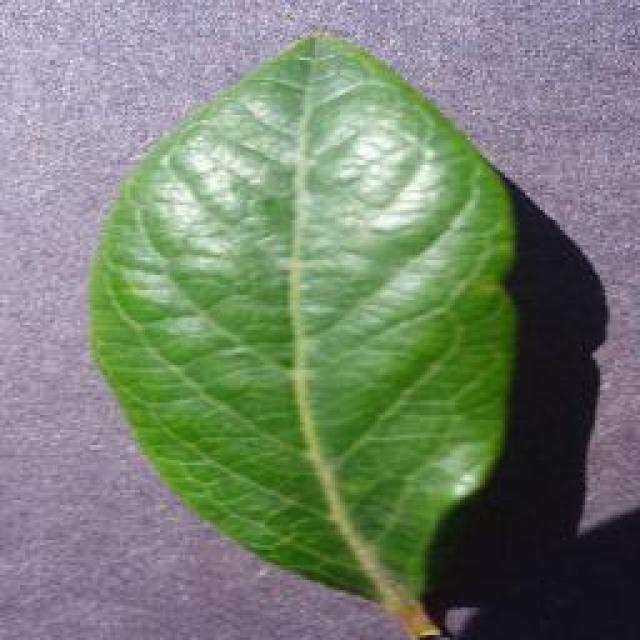Blu_healthy: (116, 104, 518, 521)
